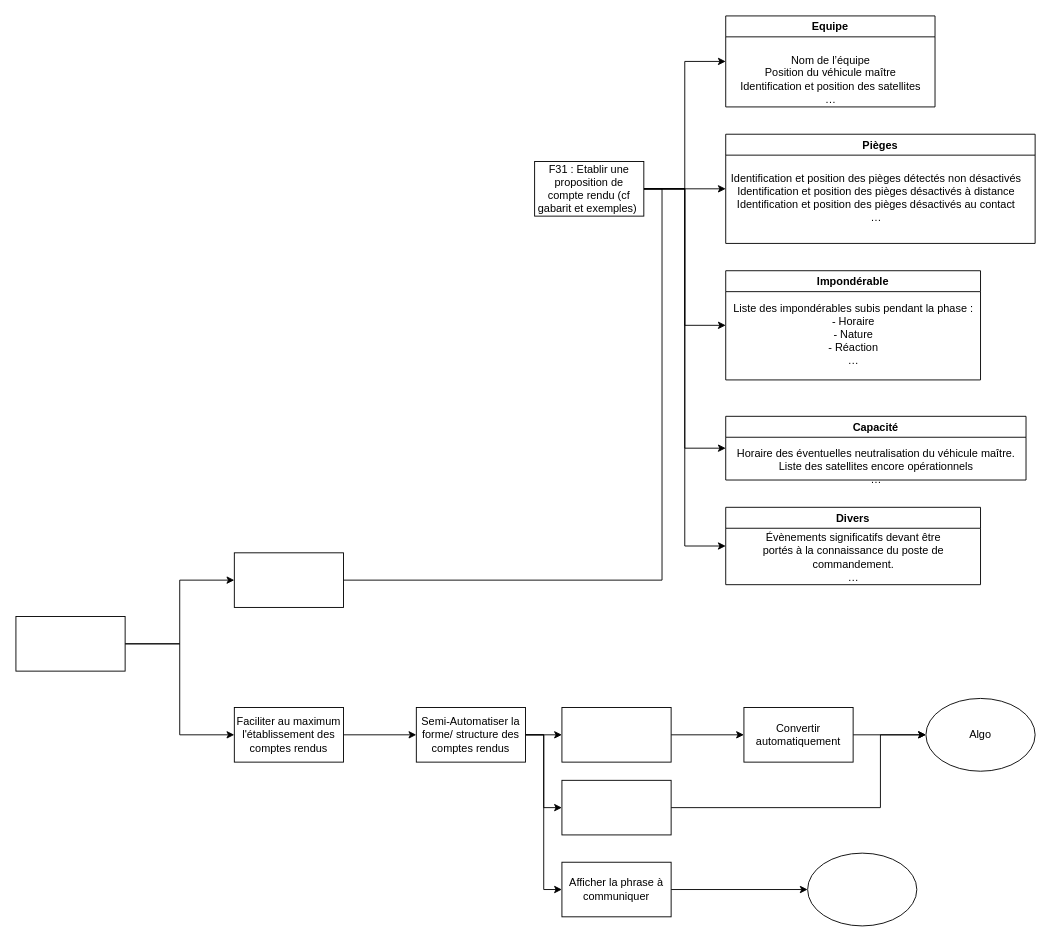
The diagram is 1051 pixels wide and 942 high, and some of its shapes have lost their labels. Each missing label, with the centre of its shape:
F31: Etablir une proposition de compte rendu (cf gabarit et exemples) *: (616,807)
F33 :Formaliser les données: (70,643)
Respecter le gabarit des comptes rendus: (288,579)
Utiliser l'alphabet phonétique de l'OTAN: (616,734)
écran plateforme visuelle: (862,889)
